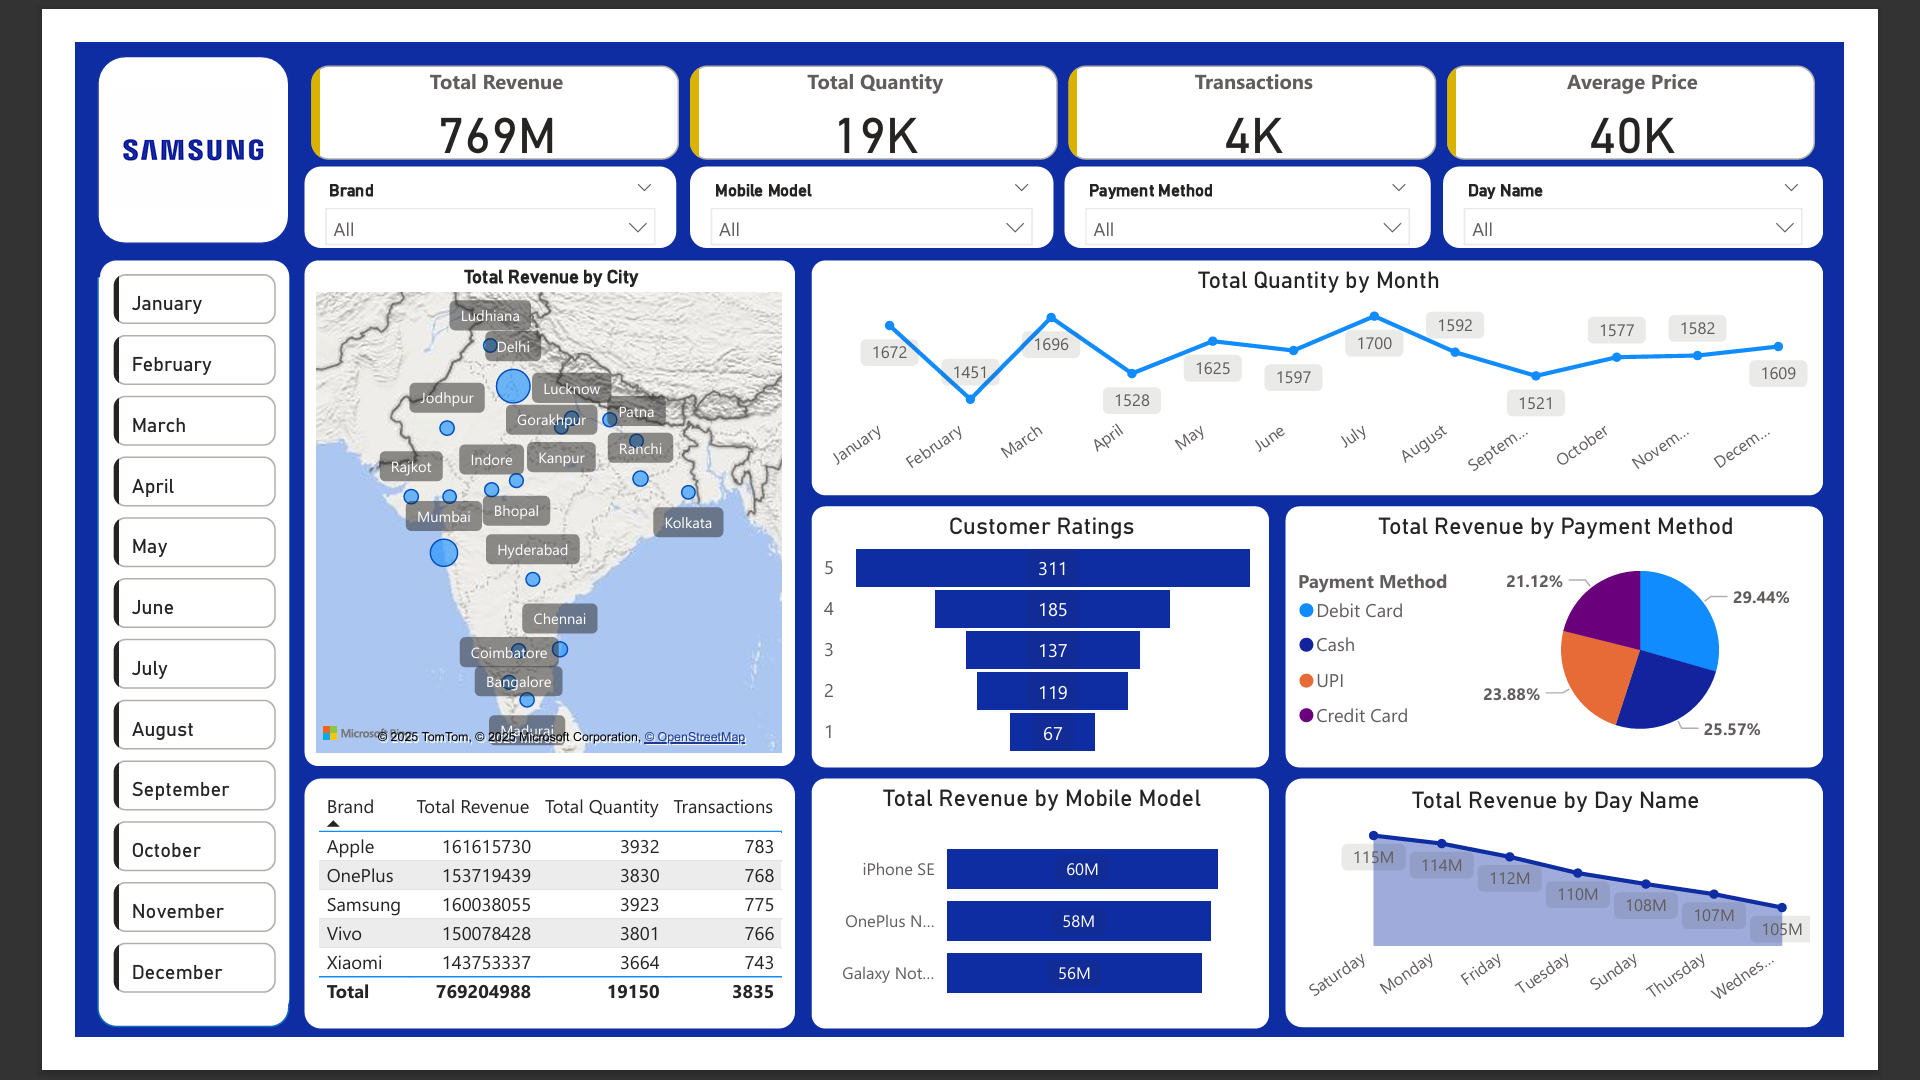

What the dashboard file says about the page in this screenshot:
{"tool":"powerbi","page":{"name":"Page 1","canvas":[1280,720],"ordinal":0},"visuals":[{"type":"shape","box":[16.2,146.2,138.8,566.2],"z":0},{"type":"shape","box":[0,20,220,150],"z":1000},{"type":"image","box":[16.2,10,138.8,136.2],"z":2000},{"type":"cardVisual","fields":{"Data":["Mobile Sales Data.Total Sales","Mobile Sales Data.Total Quantity","Mobile Sales Data.Transactions","Mobile Sales Data.Average Price"]},"box":[166.5,12.1,1099.1,78.4],"z":3000},{"type":"map","fields":{"Category":["Mobile Sales Data.City"],"Size":["Mobile Sales Data.Total Sales"]},"box":[166.5,158,354.7,365.6],"z":4000},{"type":"lineChart","fields":{"Y":["Mobile Sales Data.Total Quantity"],"Category":["Mobile Sales Data.Date.Variation.Date Hierarchy.Month","Mobile Sales Data.Date.Variation.Date Hierarchy.Day"]},"box":[532.5,157.5,732.5,170],"z":5000},{"type":"advancedSlicerVisual","fields":{"Values":["Mobile Sales Data.Date.Variation.Date Hierarchy.Month"]},"box":[17.5,157.5,137.5,546.2],"z":6000},{"type":"barChart","fields":{"Category":["Mobile Sales Data.Mobile Model"],"Y":["Mobile Sales Data.Total Sales"]},"box":[532.5,532.5,331.2,181.2],"z":7000},{"type":"pieChart","fields":{"Category":["Mobile Sales Data.Payment Method"],"Y":["Mobile Sales Data.Total Sales"]},"box":[876.2,336.2,388.8,188.8],"z":8000},{"type":"funnel","title":"Customer Ratings","fields":{"Category":["Mobile Sales Data.Customer Ratings"],"Y":["CountNonNull(Mobile Sales Data.Customer Ratings)"]},"box":[532.5,336.2,331.2,188.8],"z":9000},{"type":"areaChart","fields":{"Category":["Mobile Sales Data.Day Name"],"Y":["Mobile Sales Data.Total Sales"]},"box":[876.2,532.5,388.8,180],"z":10000},{"type":"tableEx","fields":{"Values":["Mobile Sales Data.Brand","Mobile Sales Data.Total Revenue","Mobile Sales Data.Total Quantity","Mobile Sales Data.Transactions"]},"box":[166.2,532.5,355,181.2],"z":11000},{"type":"slicer","fields":{"Values":["Mobile Sales Data.Brand"]},"box":[166.2,90,268.8,58.8],"z":13000},{"type":"slicer","fields":{"Values":["Mobile Sales Data.Mobile Model"]},"box":[445,90,262.5,58.8],"z":14000},{"type":"slicer","fields":{"Values":["Mobile Sales Data.Payment Method"]},"box":[716.2,90,265,58.8],"z":15000},{"type":"slicer","fields":{"Values":["Mobile Sales Data.Day Name"]},"box":[990,90,275,58.8],"z":16000}]}

Visuals, with their boxes in screenshot pixels (x1, y1, x2, y2), scaled from the page's 1280x720 canvas onto the 1920x1080 screenshot:
shape: pyautogui.locateOnScreen(24, 219, 232, 1069)
shape: pyautogui.locateOnScreen(0, 30, 330, 255)
image: pyautogui.locateOnScreen(24, 15, 232, 219)
cardVisual - Mobile Sales Data.Total Sales x Mobile Sales Data.Total Quantity: pyautogui.locateOnScreen(250, 18, 1898, 136)
map - Mobile Sales Data.City x Mobile Sales Data.Total Sales: pyautogui.locateOnScreen(250, 237, 782, 785)
lineChart - Mobile Sales Data.Total Quantity x Mobile Sales Data.Date.Variation.Date Hierarchy.Month: pyautogui.locateOnScreen(799, 236, 1898, 491)
advancedSlicerVisual - Mobile Sales Data.Date.Variation.Date Hierarchy.Month: pyautogui.locateOnScreen(26, 236, 232, 1056)
barChart - Mobile Sales Data.Mobile Model x Mobile Sales Data.Total Sales: pyautogui.locateOnScreen(799, 799, 1296, 1071)
pieChart - Mobile Sales Data.Payment Method x Mobile Sales Data.Total Sales: pyautogui.locateOnScreen(1314, 504, 1898, 788)
"Customer Ratings" funnel: pyautogui.locateOnScreen(799, 504, 1296, 788)
areaChart - Mobile Sales Data.Day Name x Mobile Sales Data.Total Sales: pyautogui.locateOnScreen(1314, 799, 1898, 1069)
tableEx - Mobile Sales Data.Brand x Mobile Sales Data.Total Revenue: pyautogui.locateOnScreen(249, 799, 782, 1071)
slicer - Mobile Sales Data.Brand: pyautogui.locateOnScreen(249, 135, 652, 223)
slicer - Mobile Sales Data.Mobile Model: pyautogui.locateOnScreen(668, 135, 1061, 223)
slicer - Mobile Sales Data.Payment Method: pyautogui.locateOnScreen(1074, 135, 1472, 223)
slicer - Mobile Sales Data.Day Name: pyautogui.locateOnScreen(1485, 135, 1898, 223)
